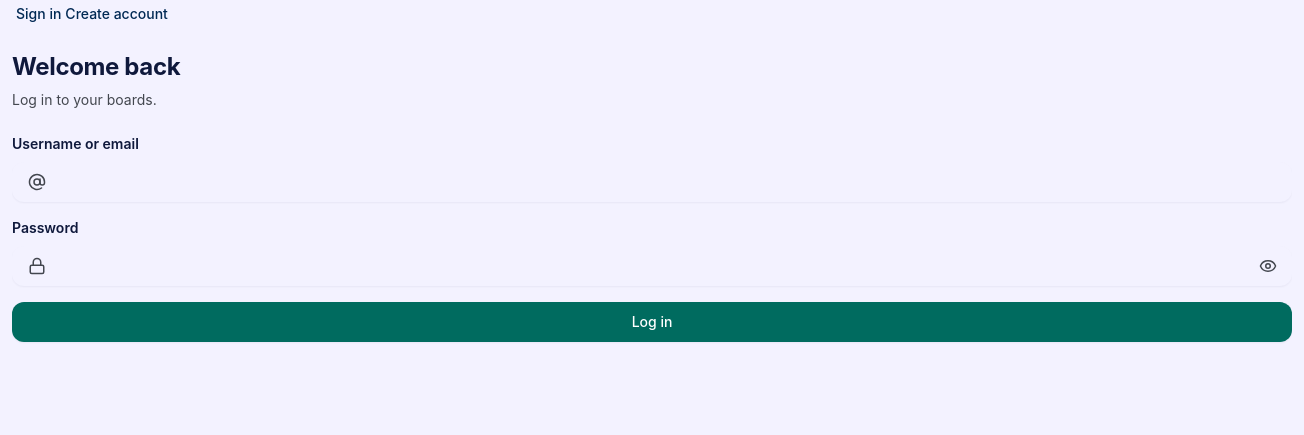
Test: AuthForm › shows a server error message
This screenshot has width=1304, height=435.
Type "abc" into the field labelled "Username or email" at {"x": 652, "y": 182}, box [12,162,1292,202]
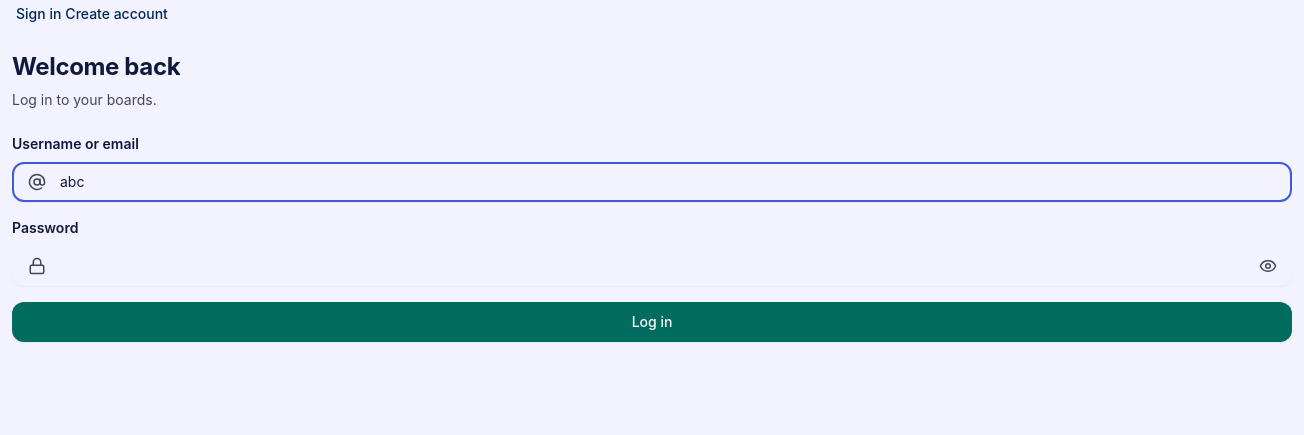
Type "b" into the password field labelled "Password" at {"x": 652, "y": 266}, box [12,246,1292,286]
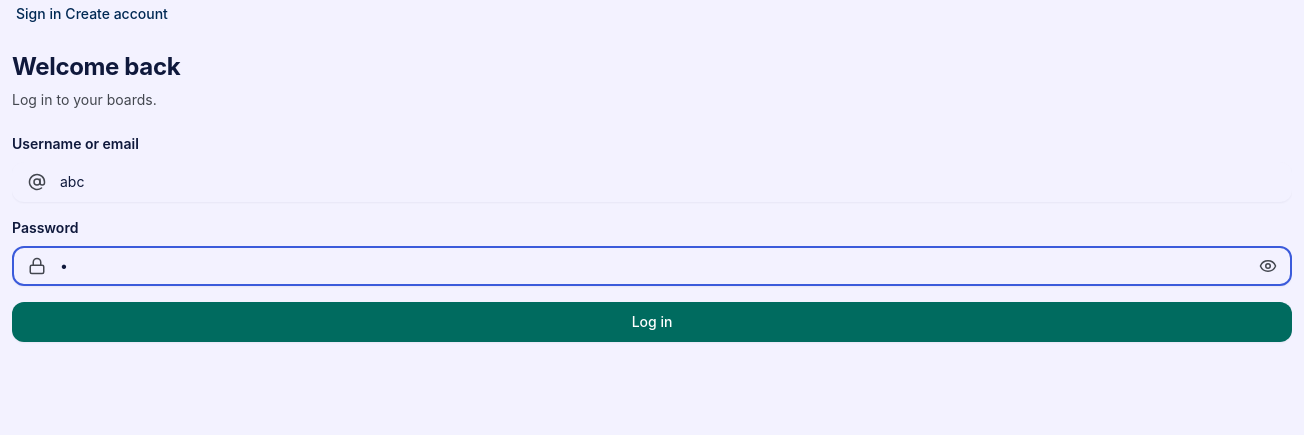
Click the button "Log in" at {"x": 652, "y": 322}, box [12,302,1292,342]
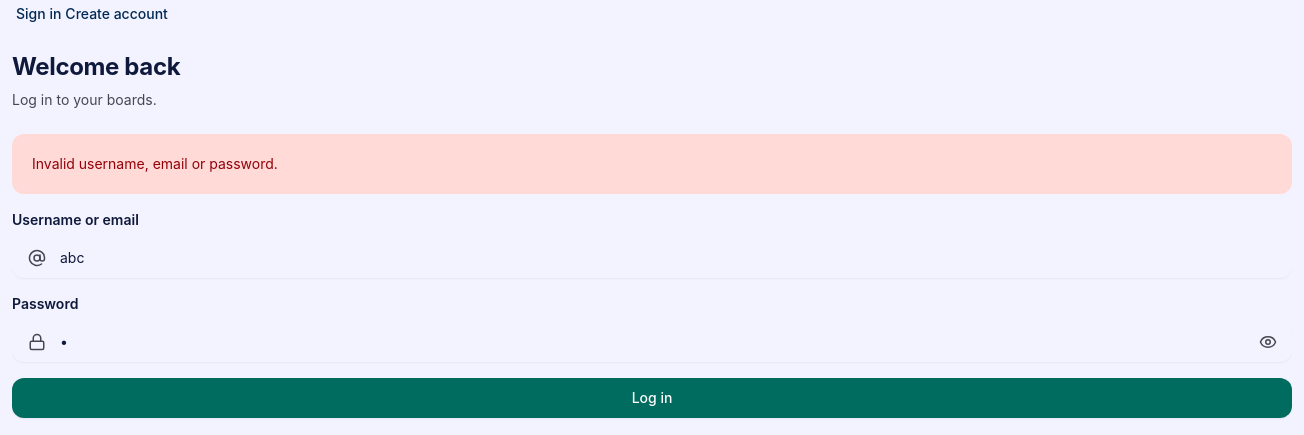
Result: the message reads "Invalid username, email or password." at [32,155,278,172]
